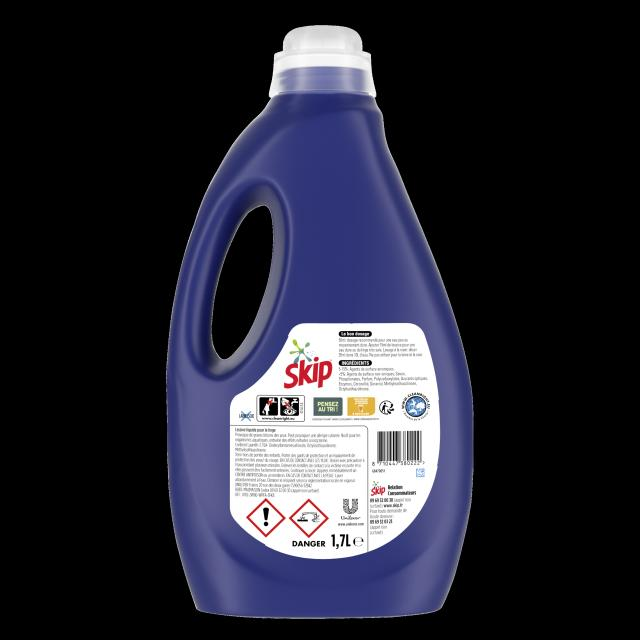GHS_Symbol_CORROSION: (289, 497, 329, 538)
GHS_Symbol_EXCLAMATION_MARK: (247, 498, 285, 538)
